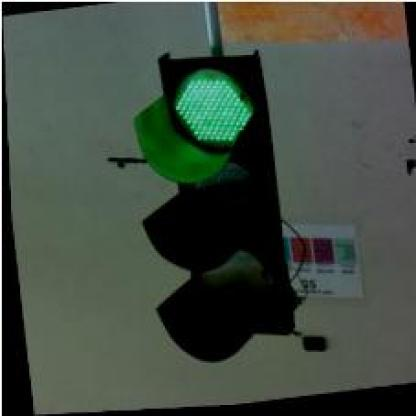green: (122, 43, 296, 368)
